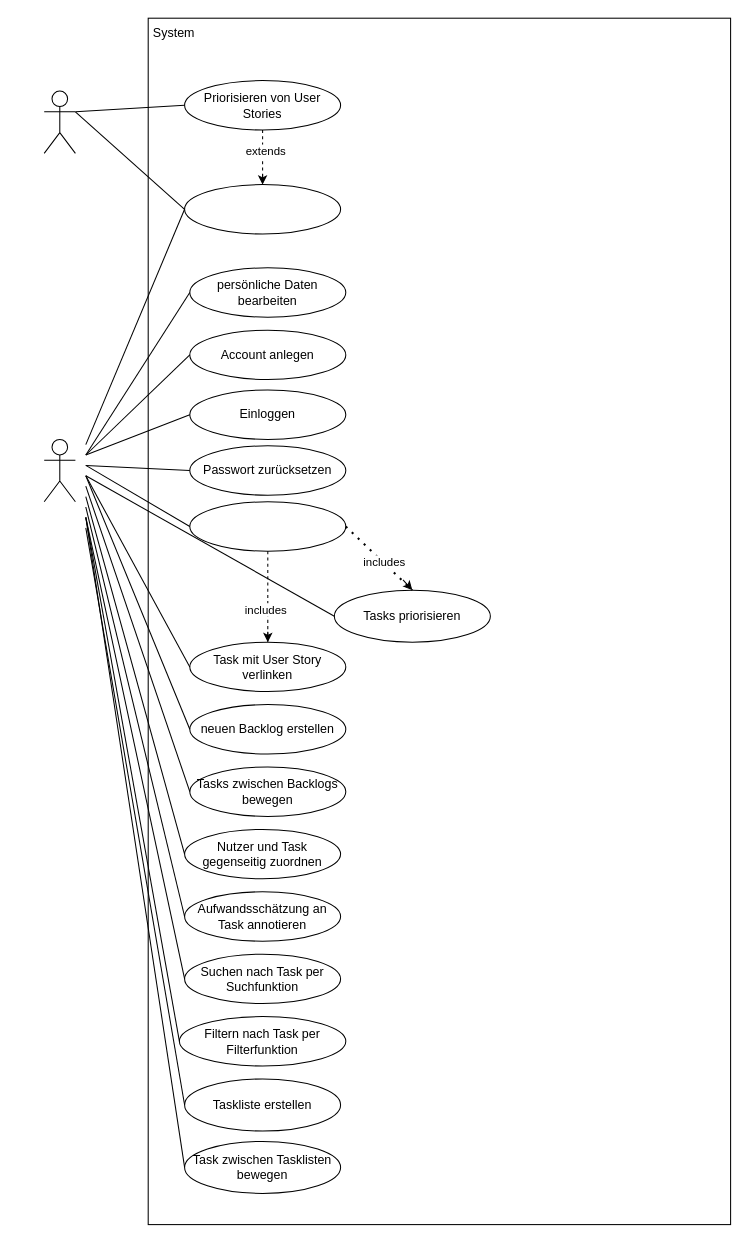
This 749x1251 diagram has some shape labels left out. The shapes that lost their labels are listed below. From the top down, each one's centre as x and y in pixels, then its label:
At point (59, 121): "Product Owner".
At point (262, 209): "neue User Stories im Backlog anlegen".
At point (59, 470): "Nutzer".
At point (267, 526): "neue Task im Backlog erstellen".
